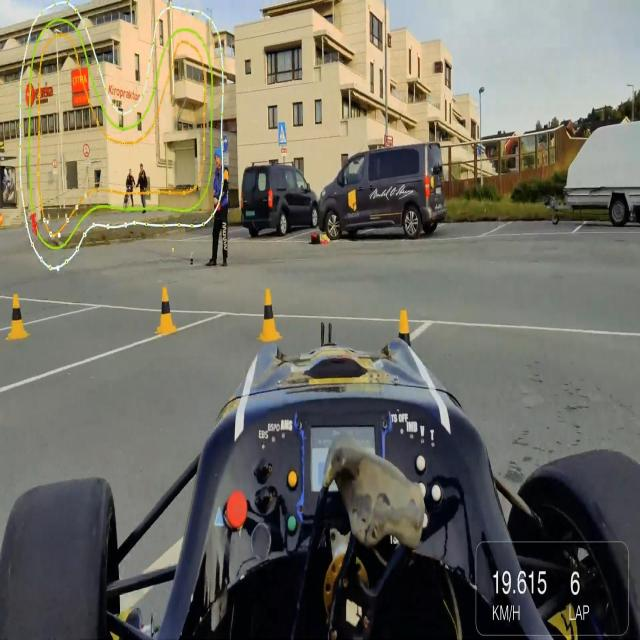yellow_cone: (393, 303, 420, 352), (154, 276, 175, 338), (9, 284, 28, 348), (260, 285, 280, 344)
